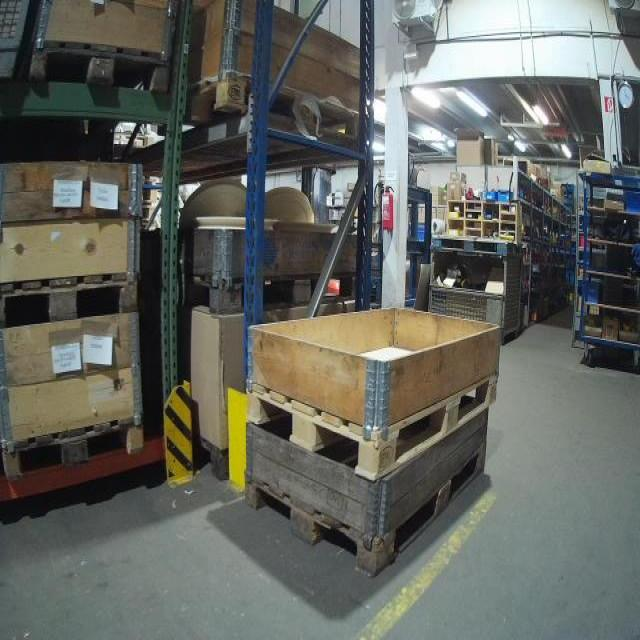pallet: (245, 436, 490, 576), (248, 361, 503, 480), (177, 72, 370, 147), (2, 406, 146, 488), (1, 269, 141, 331), (24, 47, 173, 99), (186, 275, 355, 305)
small_load_carrier: (622, 184, 639, 213)
stillage: (425, 242, 528, 343), (0, 1, 41, 87)
